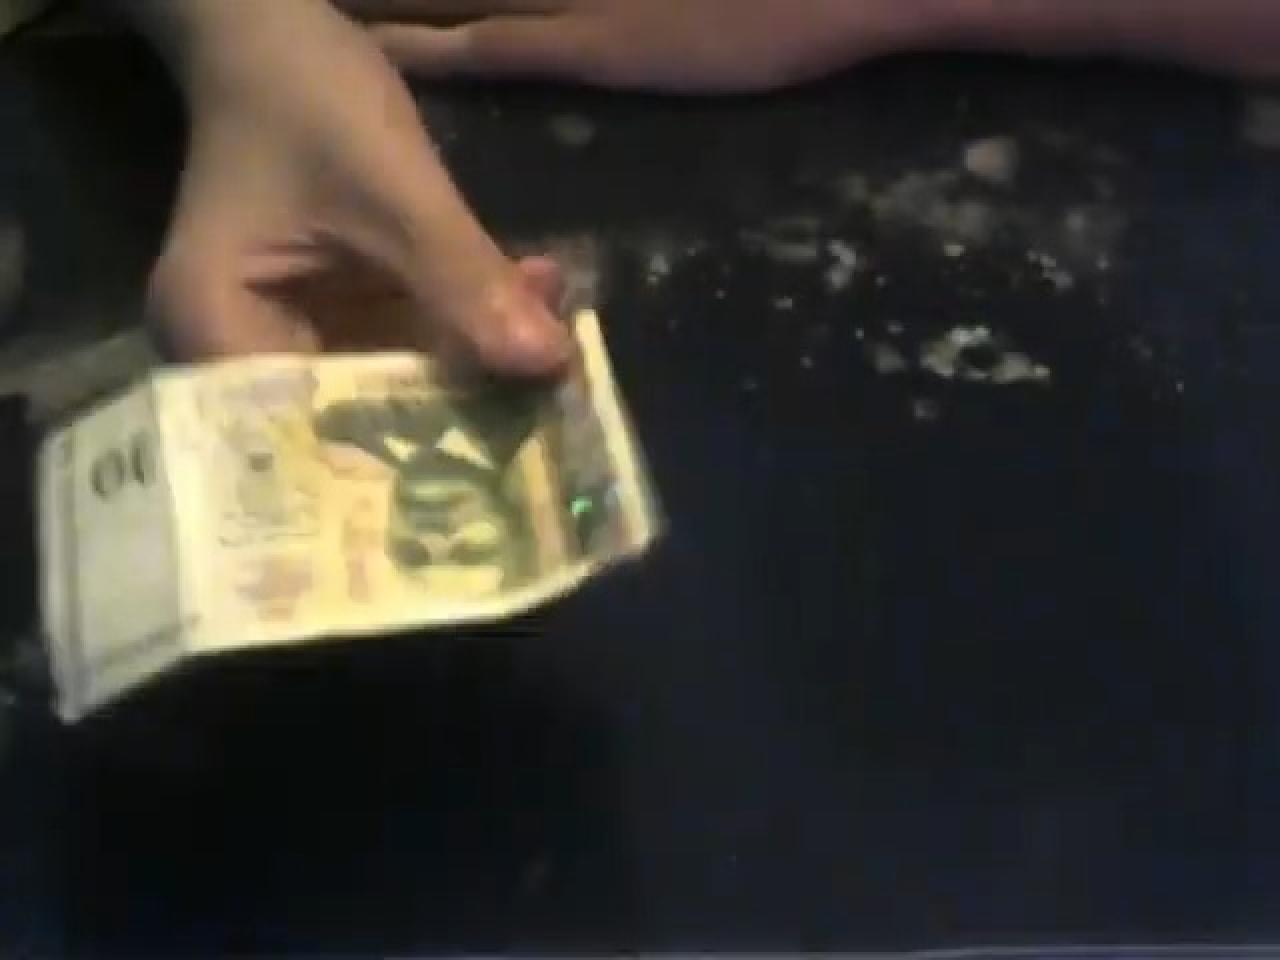10leva: (34, 312, 658, 723)
